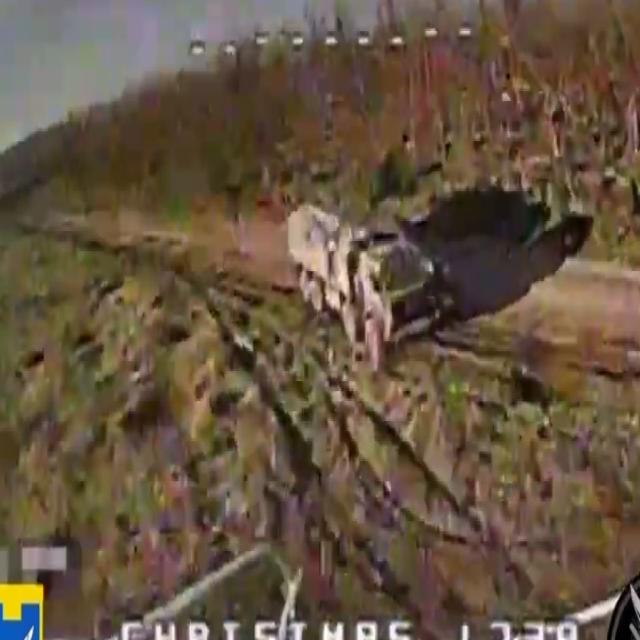TRUCK: (285, 194, 444, 370)
